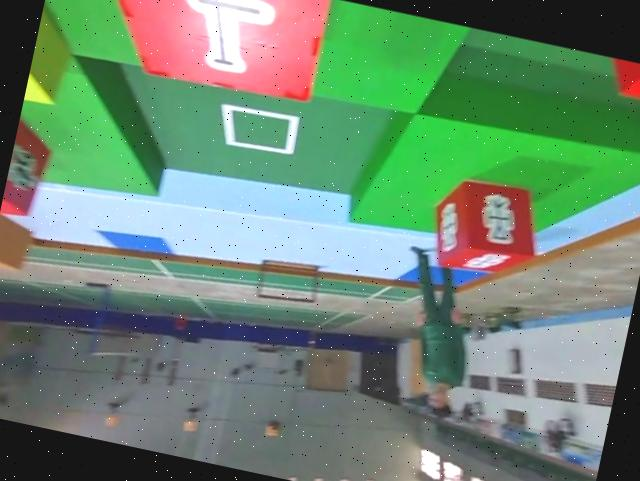R2 Real: (60, 0, 331, 113), (426, 164, 547, 285)
